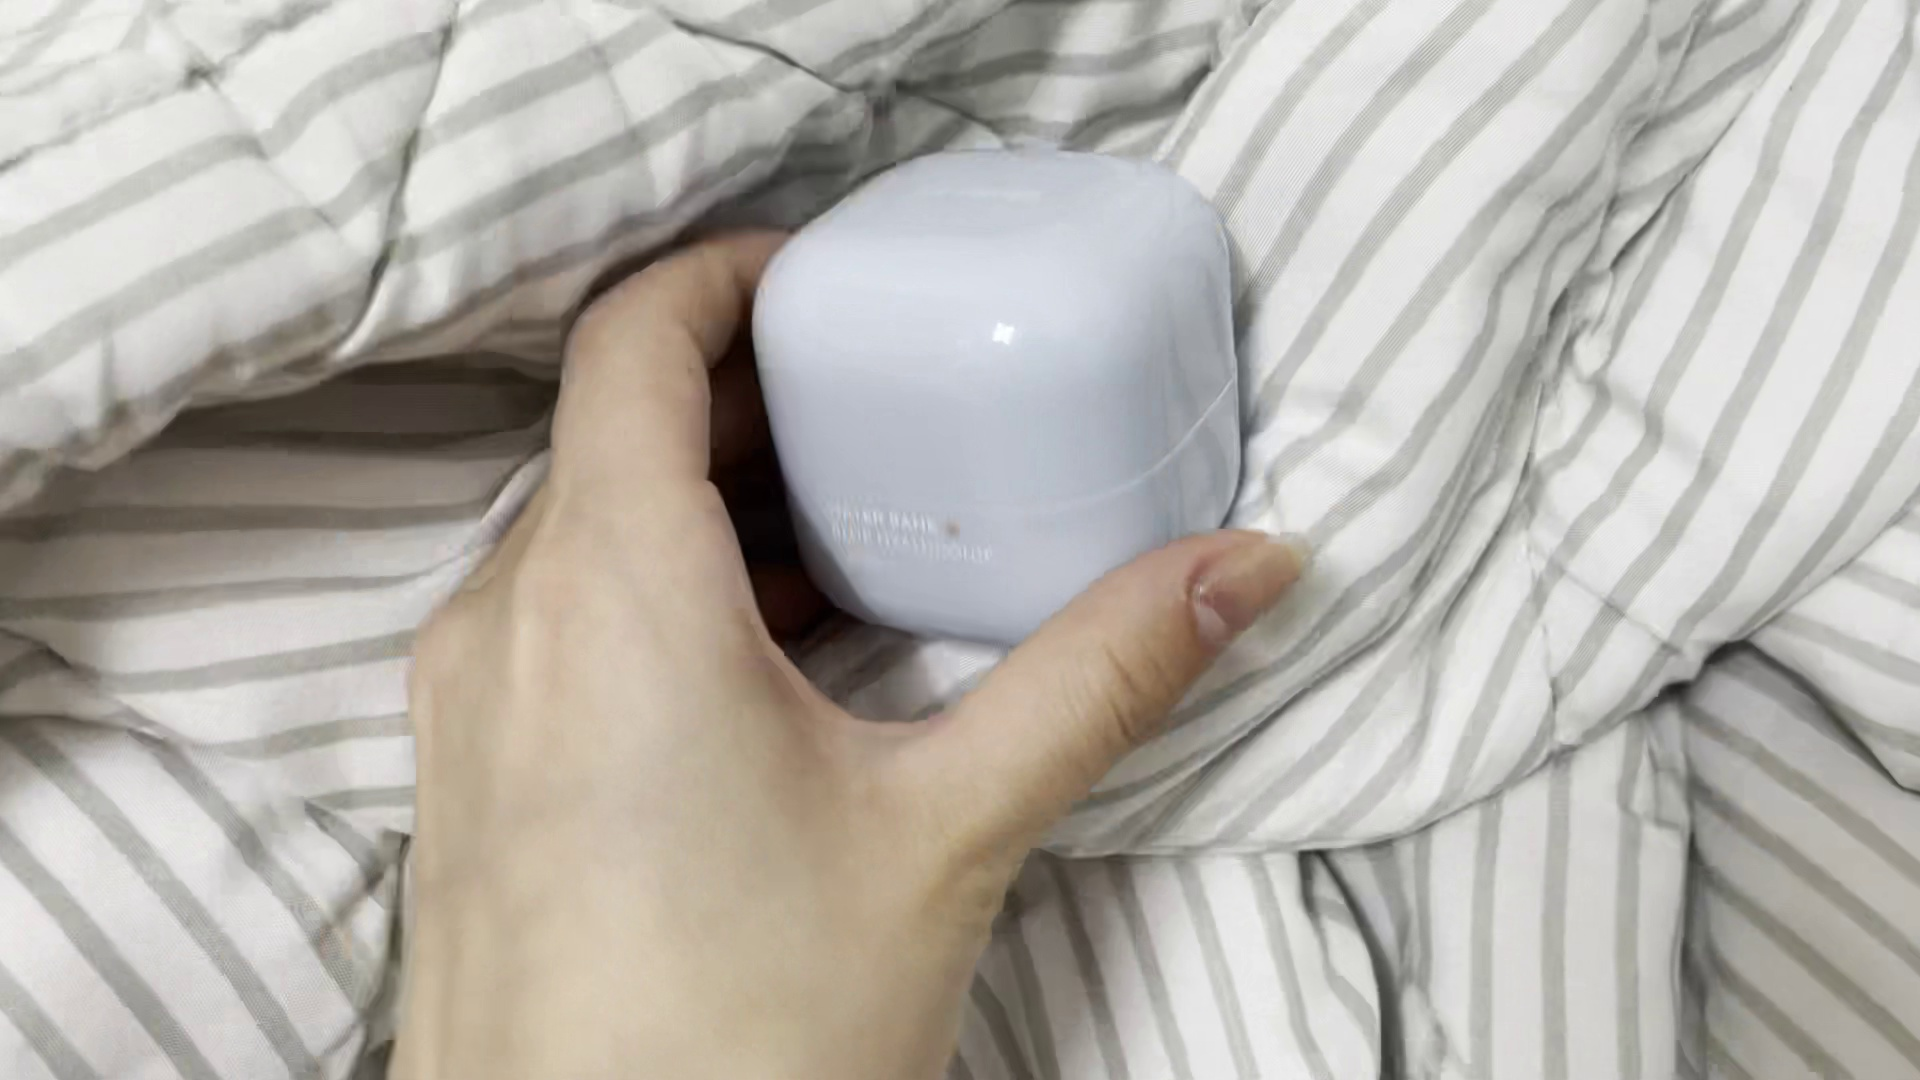cream: (746, 142, 1254, 651)
